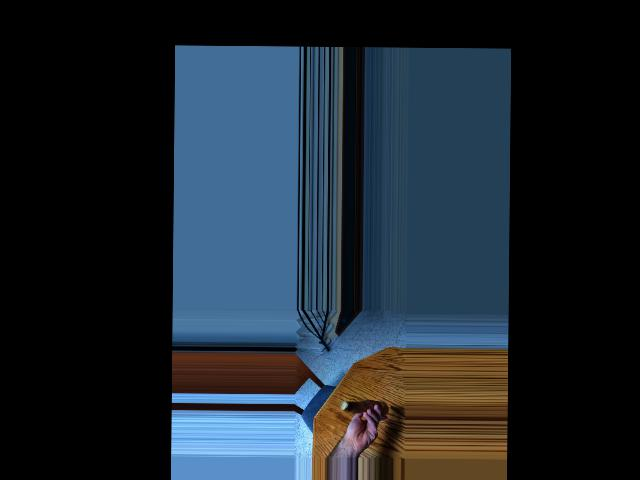sweet_potato: (339, 399, 389, 419)
